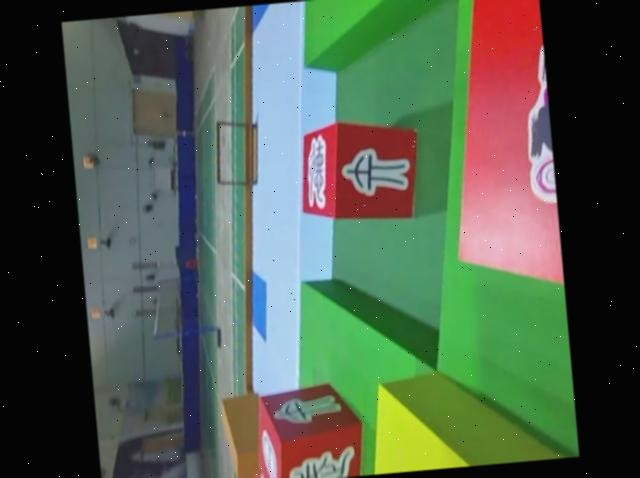R2 Fake: (292, 114, 426, 229), (250, 377, 366, 478)
